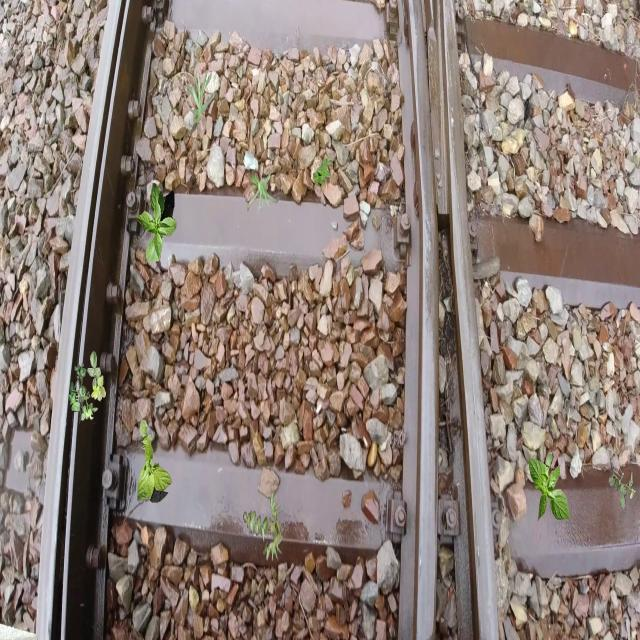Plant: (135, 183, 177, 263), (243, 490, 284, 562), (529, 452, 570, 523), (137, 420, 172, 503), (69, 351, 106, 424), (247, 171, 280, 217), (187, 67, 213, 124), (609, 468, 636, 509), (313, 155, 332, 188)
